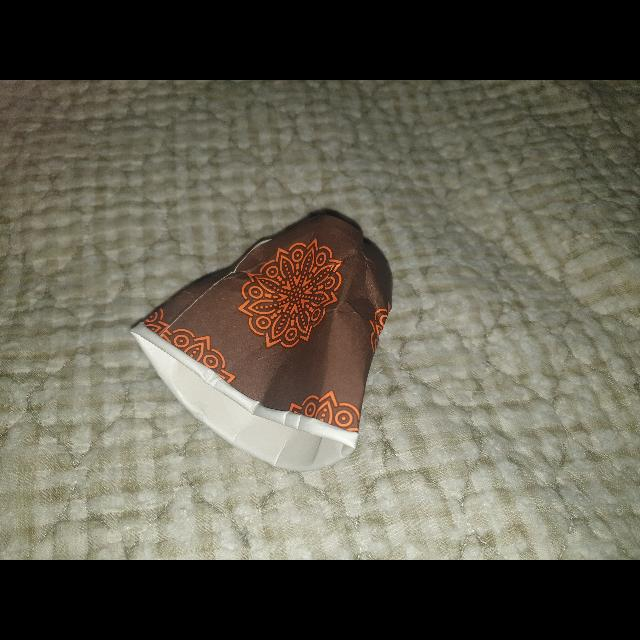trash: (127, 208, 395, 474)
